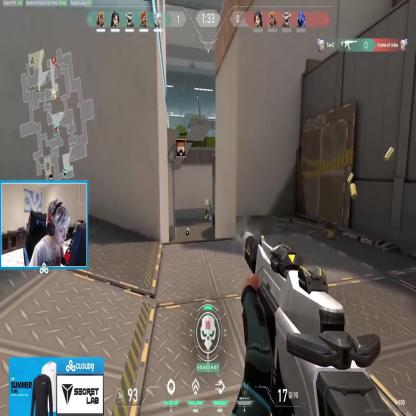enemy: (205, 200, 209, 220)
enemy_head: (206, 200, 208, 205)
